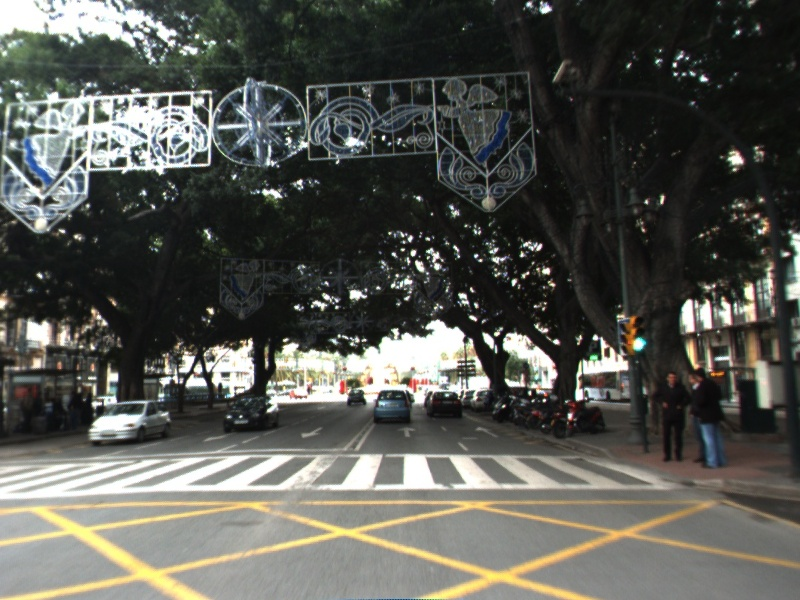STRAIGHT: (472, 424, 502, 440), (395, 424, 418, 439)
